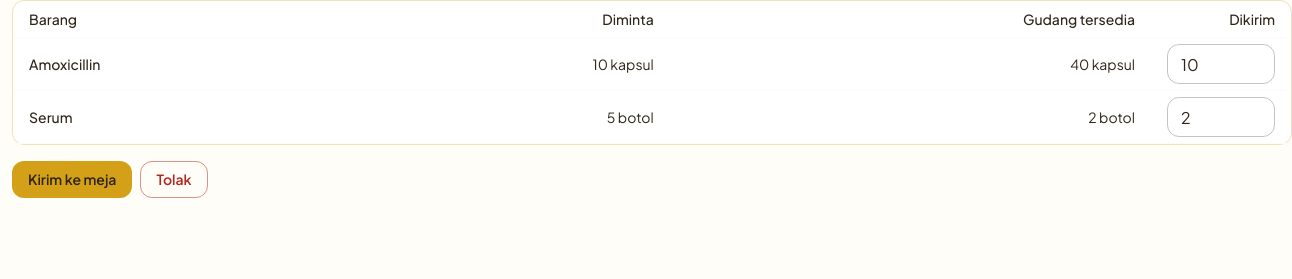
Test: RestockSendForm (spec stok meja 4.2) › melebihi gudang ditolak di layar
Replace the text in the number field named "Dikirim Serum" with "5" at [1221, 117], box [1167,97,1275,137]
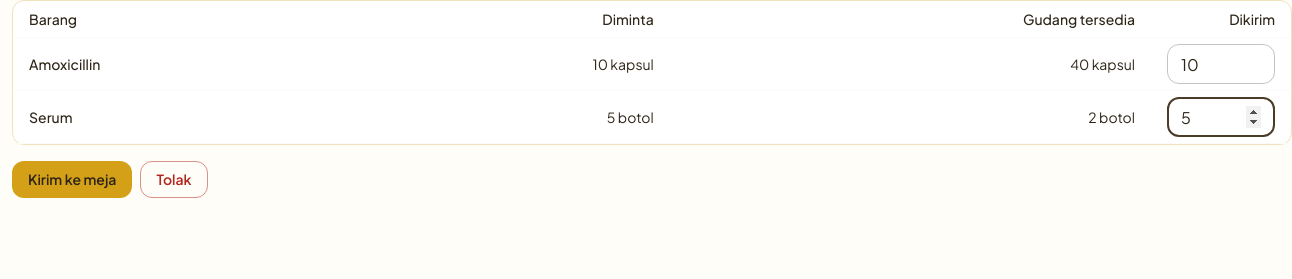
Click the button "Kirim ke meja" at [72, 179], box [12,161,132,198]
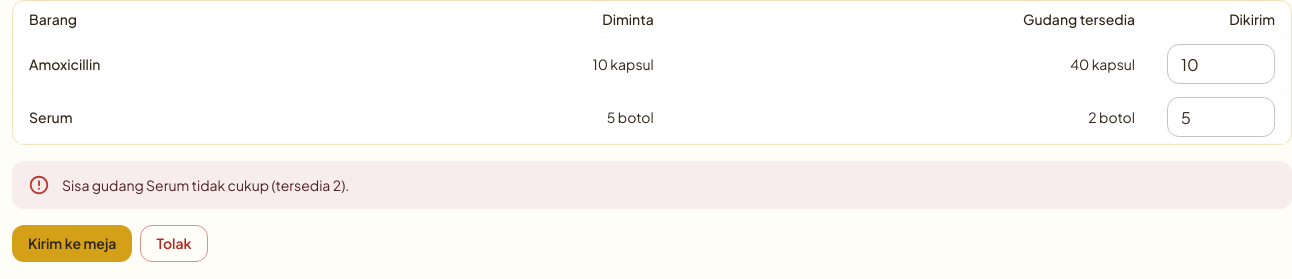
Check: the text "Sisa gudang Serum tidak cukup (tersedia 2)." is shown, box [62,176,349,194]
